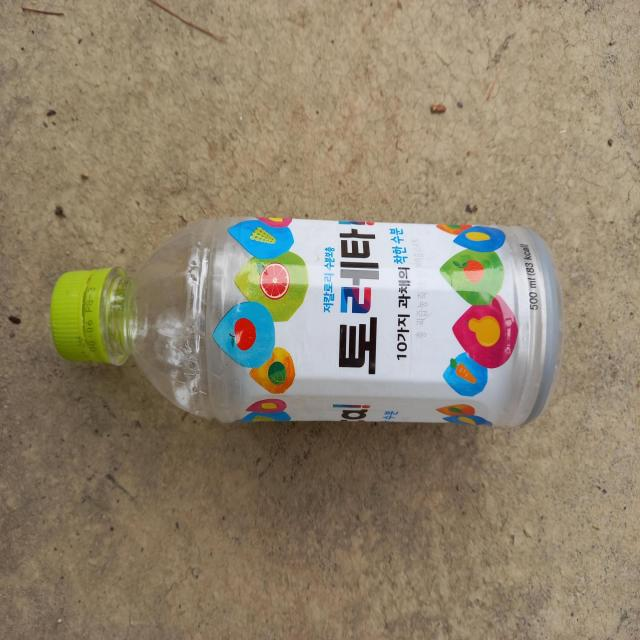plastic: (50, 217, 564, 426)
